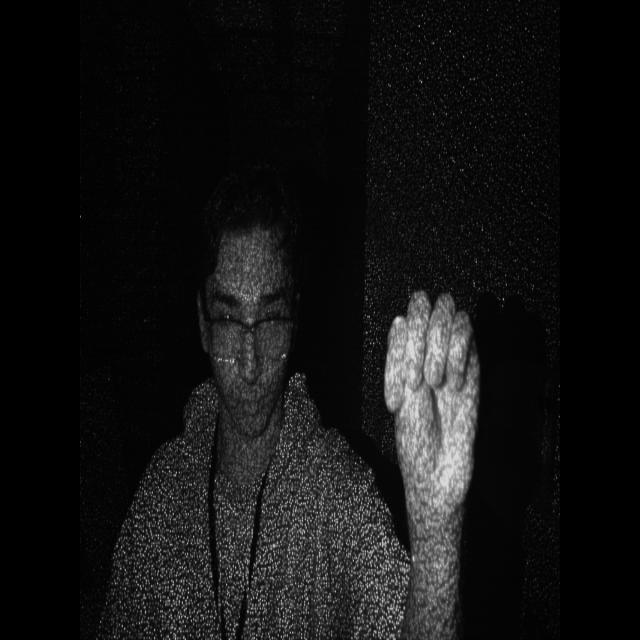M: (366, 271, 484, 531)
